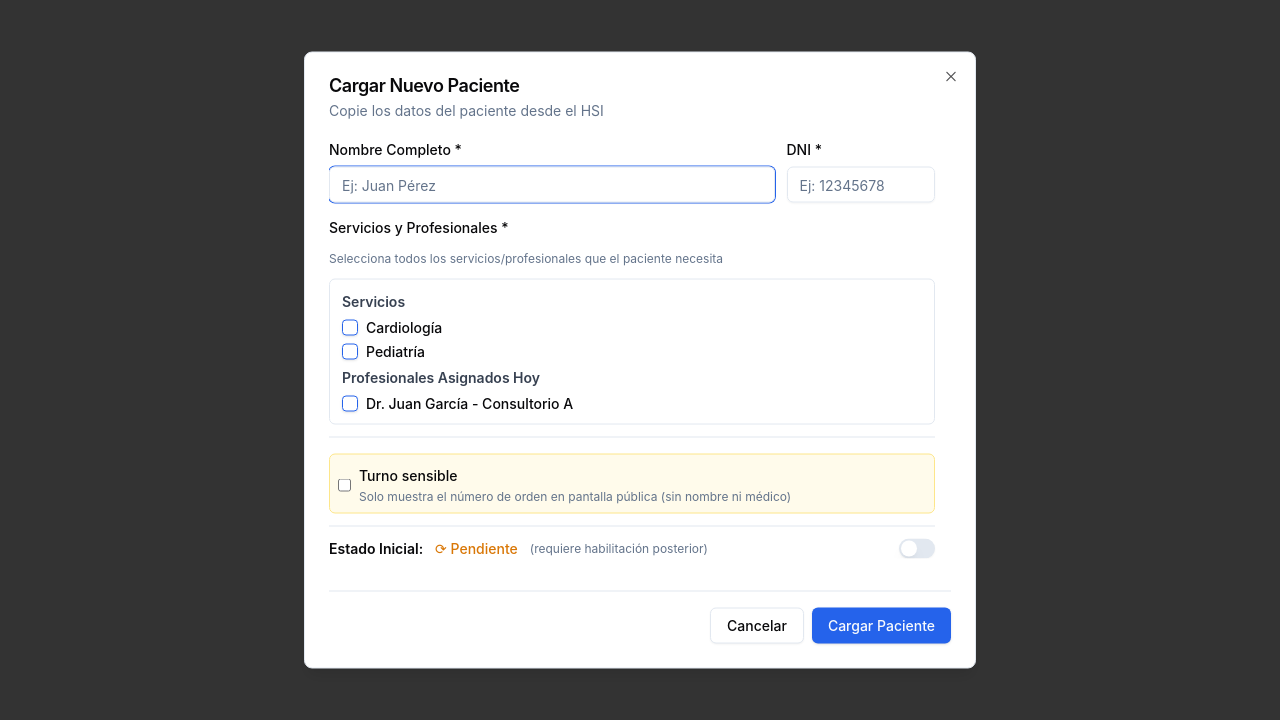
Test: AddPatientDialog › Selection Counter › should show selection count when items selected
Click the checkbox named "Cardiología" next to "Cardiología".
click(350, 328)  # box [342, 320, 358, 336]
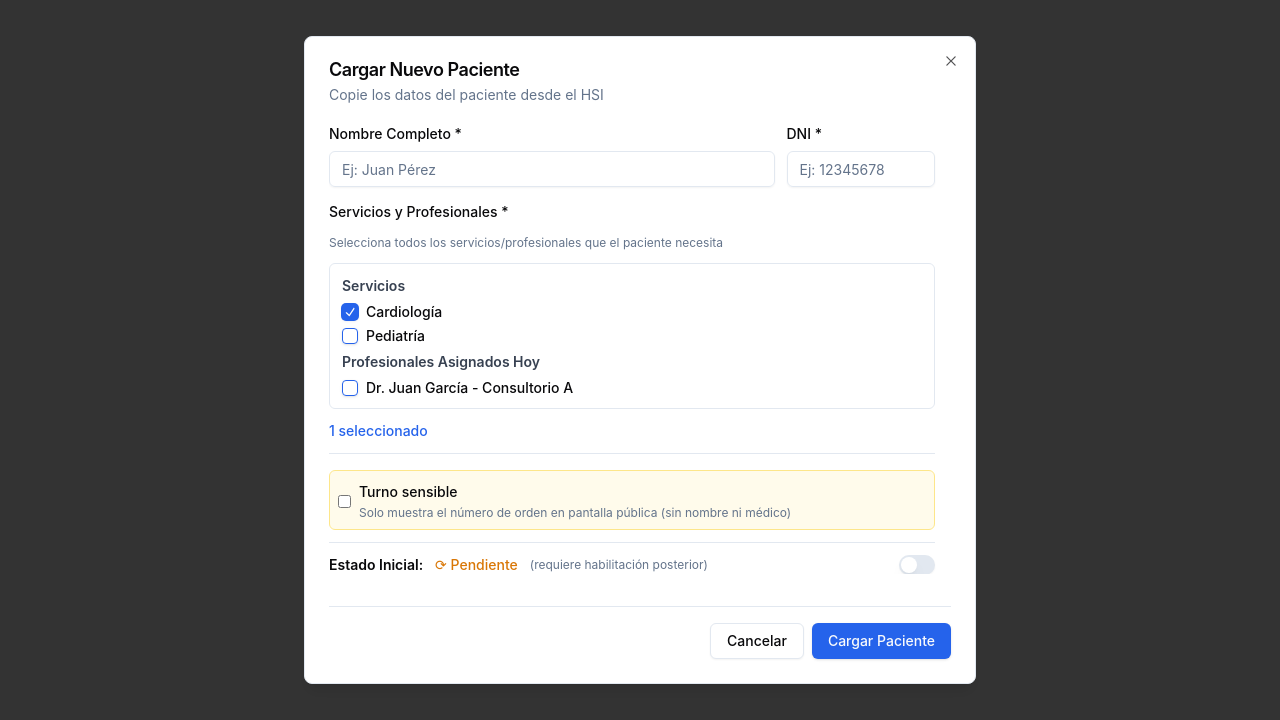
Expected: the text "1 seleccionado" is shown, [329, 422, 428, 439]
